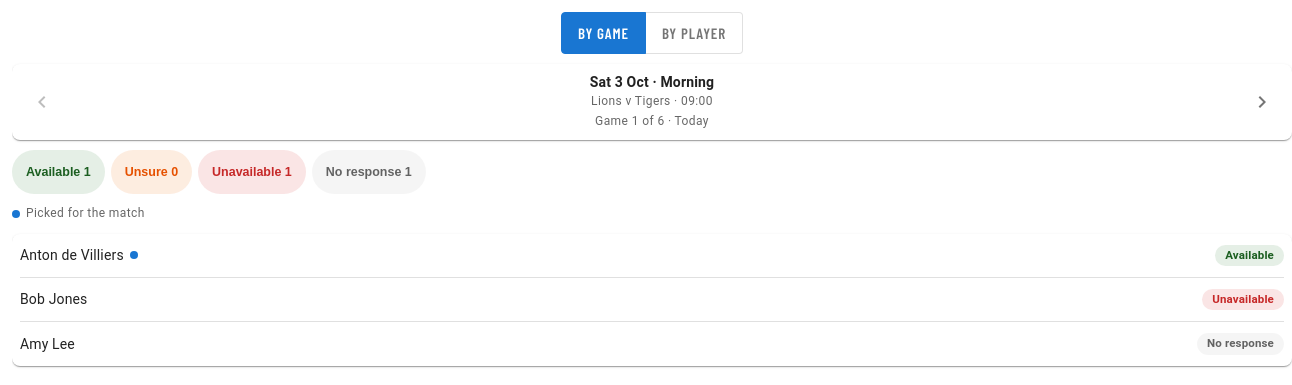
Test case: PlayersPhoneLists › switch and By game › steps between games with a horizontal swipe
The width and height of the screenshot is (1292, 385).
Press the mouse on the element with test id "game-selector" at (652, 102), box [12,64,1291,140]
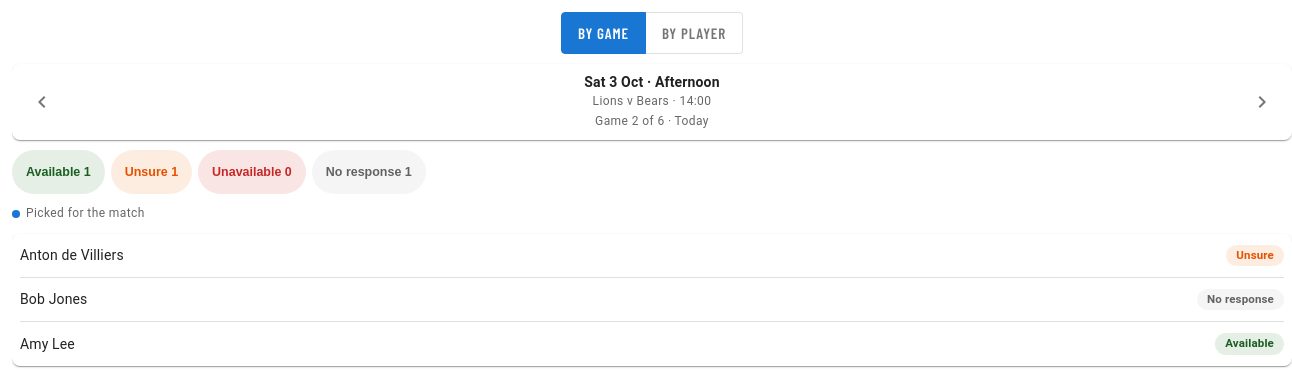
Now the text "Game 2 of 6 · Today" is shown, box [595,114,709,128]
Press the mouse on the element with test id "game-selector" at (652, 102), box [12,64,1291,140]
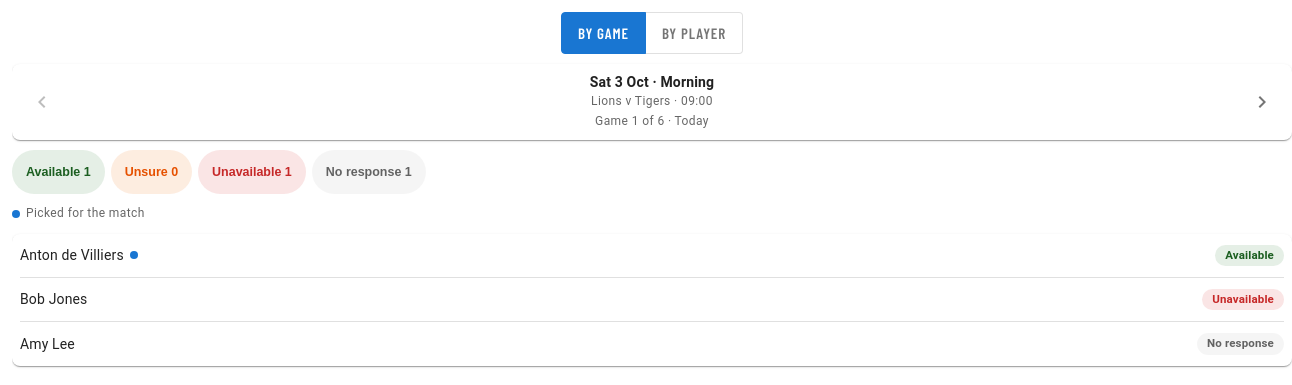
Now the text "Game 1 of 6 · Today" is shown, box [595,114,709,128]
